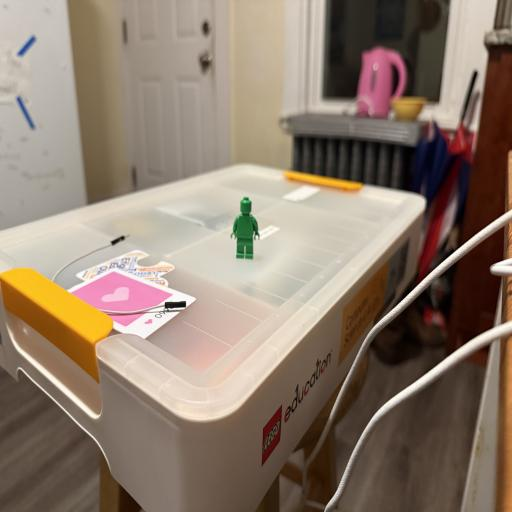Minifig: (231, 197, 259, 259), (246, 240, 270, 272)
